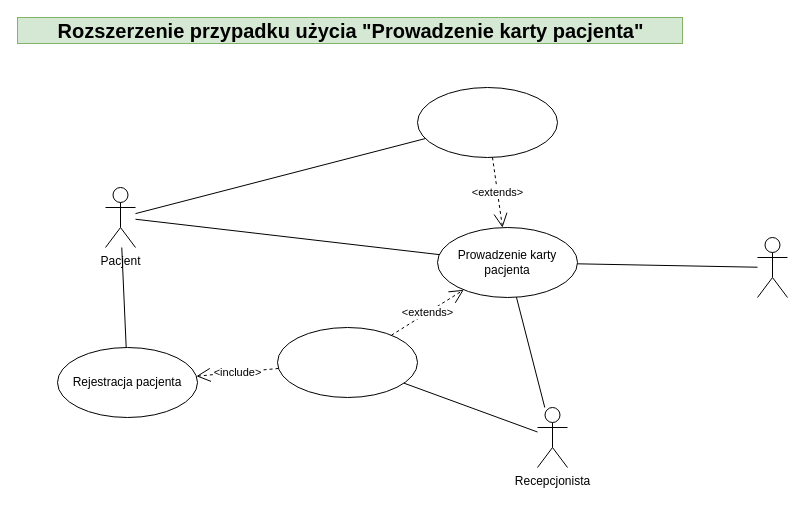
Image size: 808x506. Some labels were removed from this diagram. Here are the shapes that lost their labels. From the top down, the box of each, then its label:
(416, 86, 558, 158): Przeglądanie karty pacjenta
(756, 236, 788, 298): Lekarz
(276, 326, 418, 398): Utworzenie karty pacjenta
